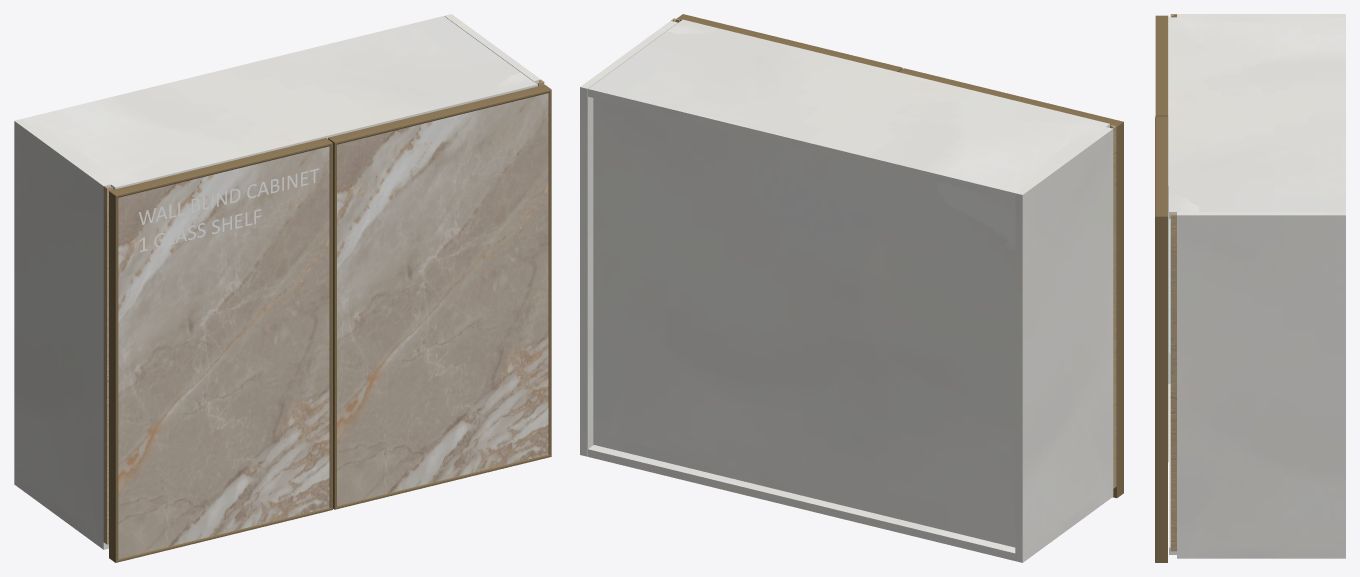
Rendered from WB-SH-NHX-GL-1SG-RHS-XXX-900-725-336-15.glb.
3 renders of one model, left to right at view 1: azimuth 30°, elevation 25°; view 2: azimuth 150°, elevation 25°; view 3: azimuth 270°, elevation 25°, orthographic. The views are drawn at different scales.
Visible parts, largest first — view 1: Object_node_6, Object_node_4, TP, TP_node_0, Extrusion_node_1, Object_node_8, Extrusion, Extrusion_node_2, 2D text, Extrusion_node_5, Extrusion_node, Extrusion_node_3 (+3 smaller); view 2: TP_node_2, TP, TP_node_0, TP_node, TP_node_1, Extrusion_node_1, Object_node_8, Extrusion_node_2, Extrusion; view 3: TP_node_1, TP, Extrusion_node_3, Object_node_16, Extrusion, Extrusion_node_2, TP_node_0, TP_node, Extrusion_node, Object_node_1.
Part boxes in pixels (x1=…): Object_node_6: x1=337, y1=93, x2=548, y2=505; Object_node_4: x1=118, y1=146, x2=329, y2=558; TP: x1=22, y1=16, x2=537, y2=189; TP_node_0: x1=14, y1=119, x2=110, y2=549; Extrusion_node_1: x1=109, y1=191, x2=118, y2=562; Object_node_8: x1=103, y1=186, x2=112, y2=544; Extrusion: x1=109, y1=138, x2=332, y2=197; Extrusion_node_2: x1=328, y1=85, x2=551, y2=144; 2D text: x1=139, y1=168, x2=319, y2=251; Extrusion_node_5: x1=328, y1=138, x2=336, y2=509; Extrusion_node: x1=329, y1=143, x2=332, y2=509; Extrusion_node_3: x1=548, y1=90, x2=551, y2=456; TP_node_2: x1=593, y1=98, x2=1015, y2=547; TP: x1=588, y1=19, x2=1109, y2=200; TP_node_0: x1=1015, y1=127, x2=1113, y2=562; TP_node: x1=588, y1=445, x2=1015, y2=560; TP_node_1: x1=580, y1=21, x2=677, y2=456; Extrusion_node_1: x1=1113, y1=122, x2=1123, y2=497; Object_node_8: x1=1110, y1=125, x2=1116, y2=488; Extrusion_node_2: x1=676, y1=14, x2=902, y2=71; Extrusion: x1=899, y1=68, x2=1123, y2=126; TP_node_1: x1=1177, y1=212, x2=1345, y2=558; TP: x1=1169, y1=17, x2=1345, y2=218; Extrusion_node_3: x1=1155, y1=216, x2=1167, y2=562; Object_node_16: x1=1170, y1=212, x2=1176, y2=551; Extrusion: x1=1155, y1=15, x2=1168, y2=115; Extrusion_node_2: x1=1155, y1=116, x2=1167, y2=216; TP_node_0: x1=1177, y1=14, x2=1345, y2=17; TP_node: x1=1169, y1=353, x2=1176, y2=554; Extrusion_node: x1=1156, y1=115, x2=1168, y2=461; Object_node_1: x1=1168, y1=219, x2=1169, y2=383.
Size of what is drawn, in the model's own units: 0.9 by 0.725 by 0.366.
7 materials, 3 textured.
